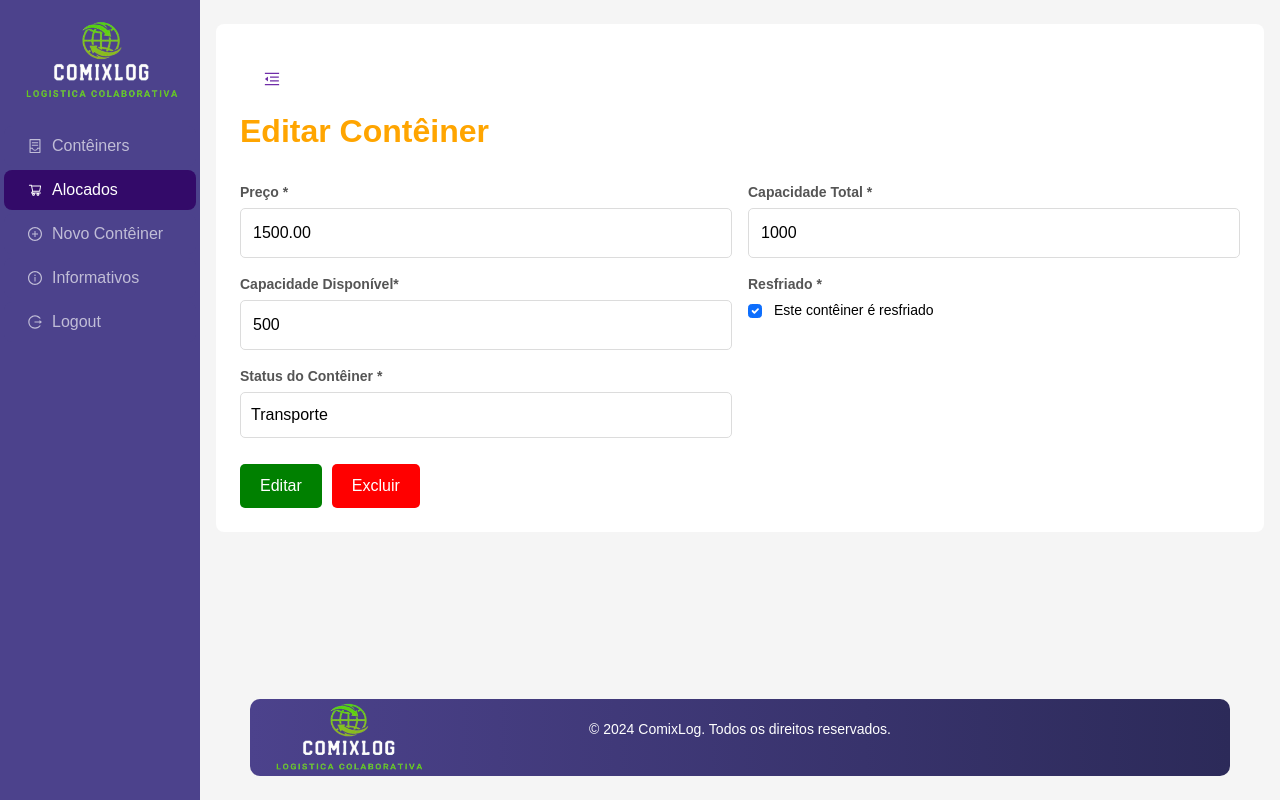
Scenario: EditContainer - Testes de Integração › Envia dados ao editar contêiner e exibe mensagem de sucesso
Note: Clique no botão de editar
Click the button "Editar" at [281, 486], box left=240, top=464, right=322, bottom=508
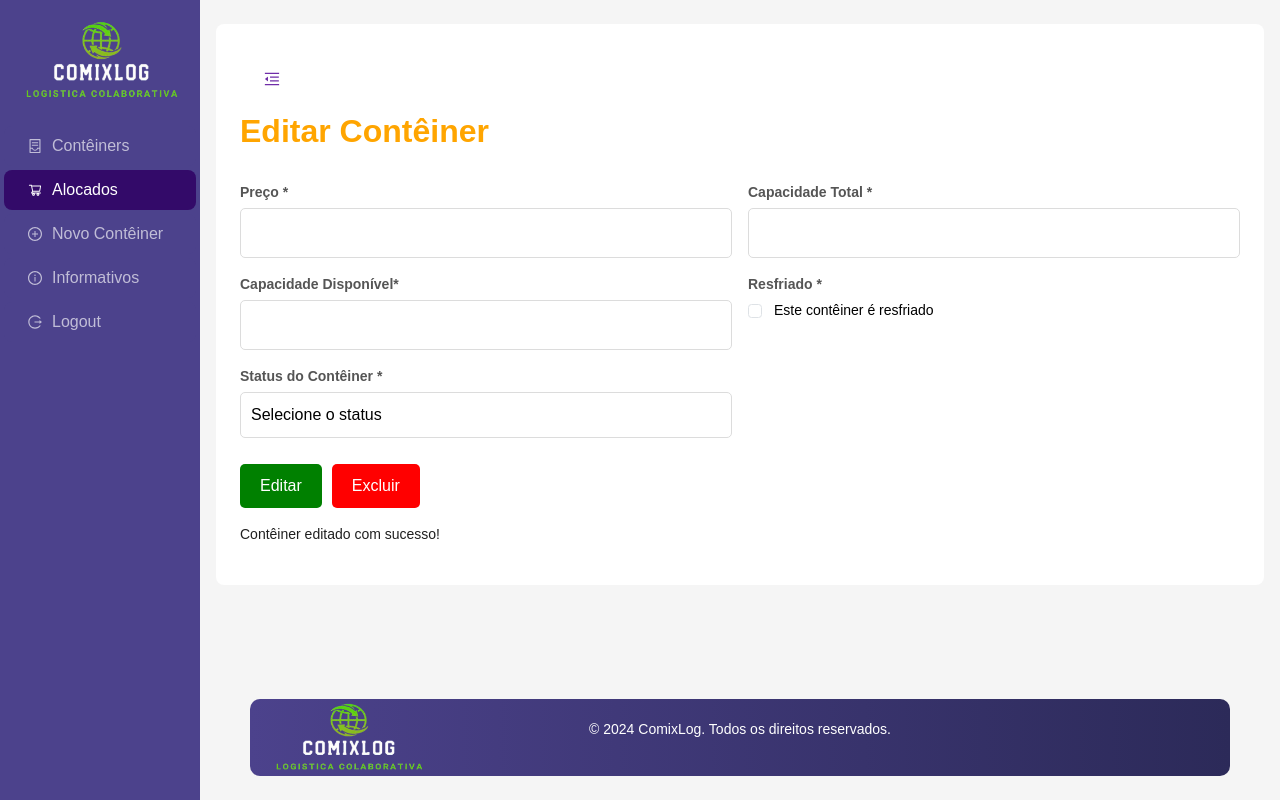
Check: the text "Contêiner editado com sucesso!" is shown, box left=240, top=526, right=440, bottom=542
